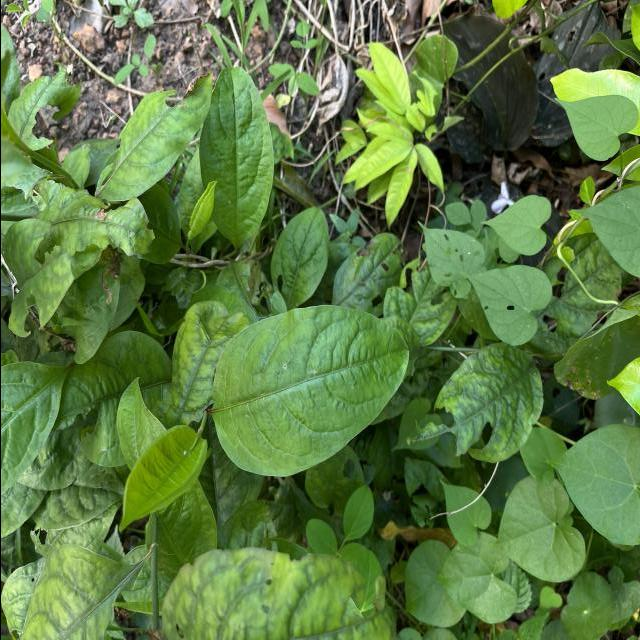Plumbago indica: (209, 301, 412, 485), (413, 339, 541, 466), (204, 60, 276, 256), (116, 415, 210, 538)
